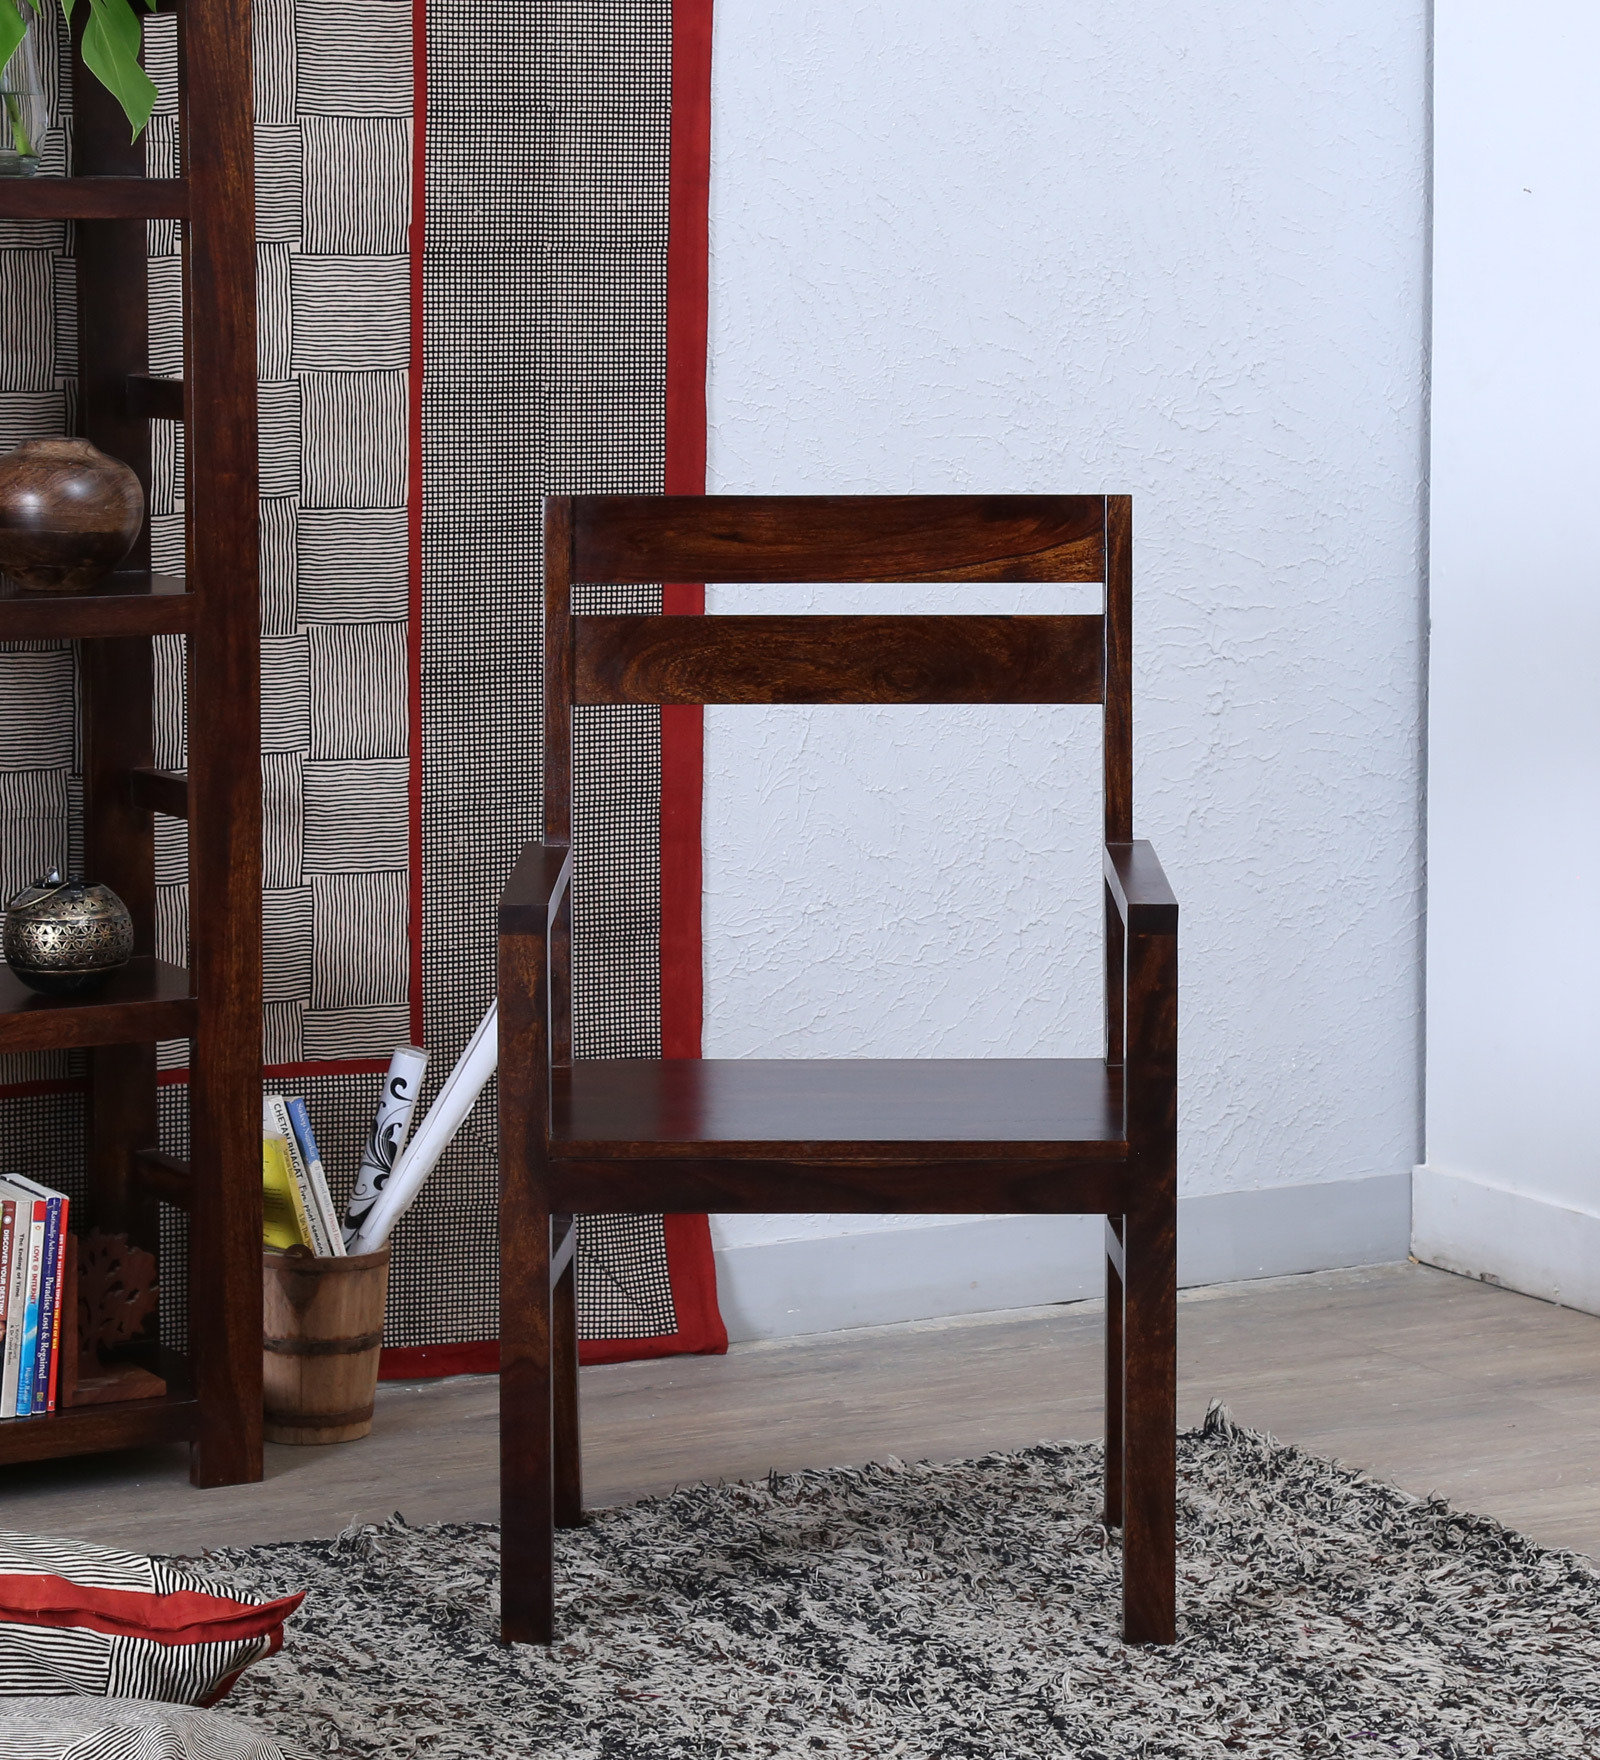Enkel Arm Chair in Provincial Teak Finish by Woodsworth: (470, 471, 1214, 1685)
